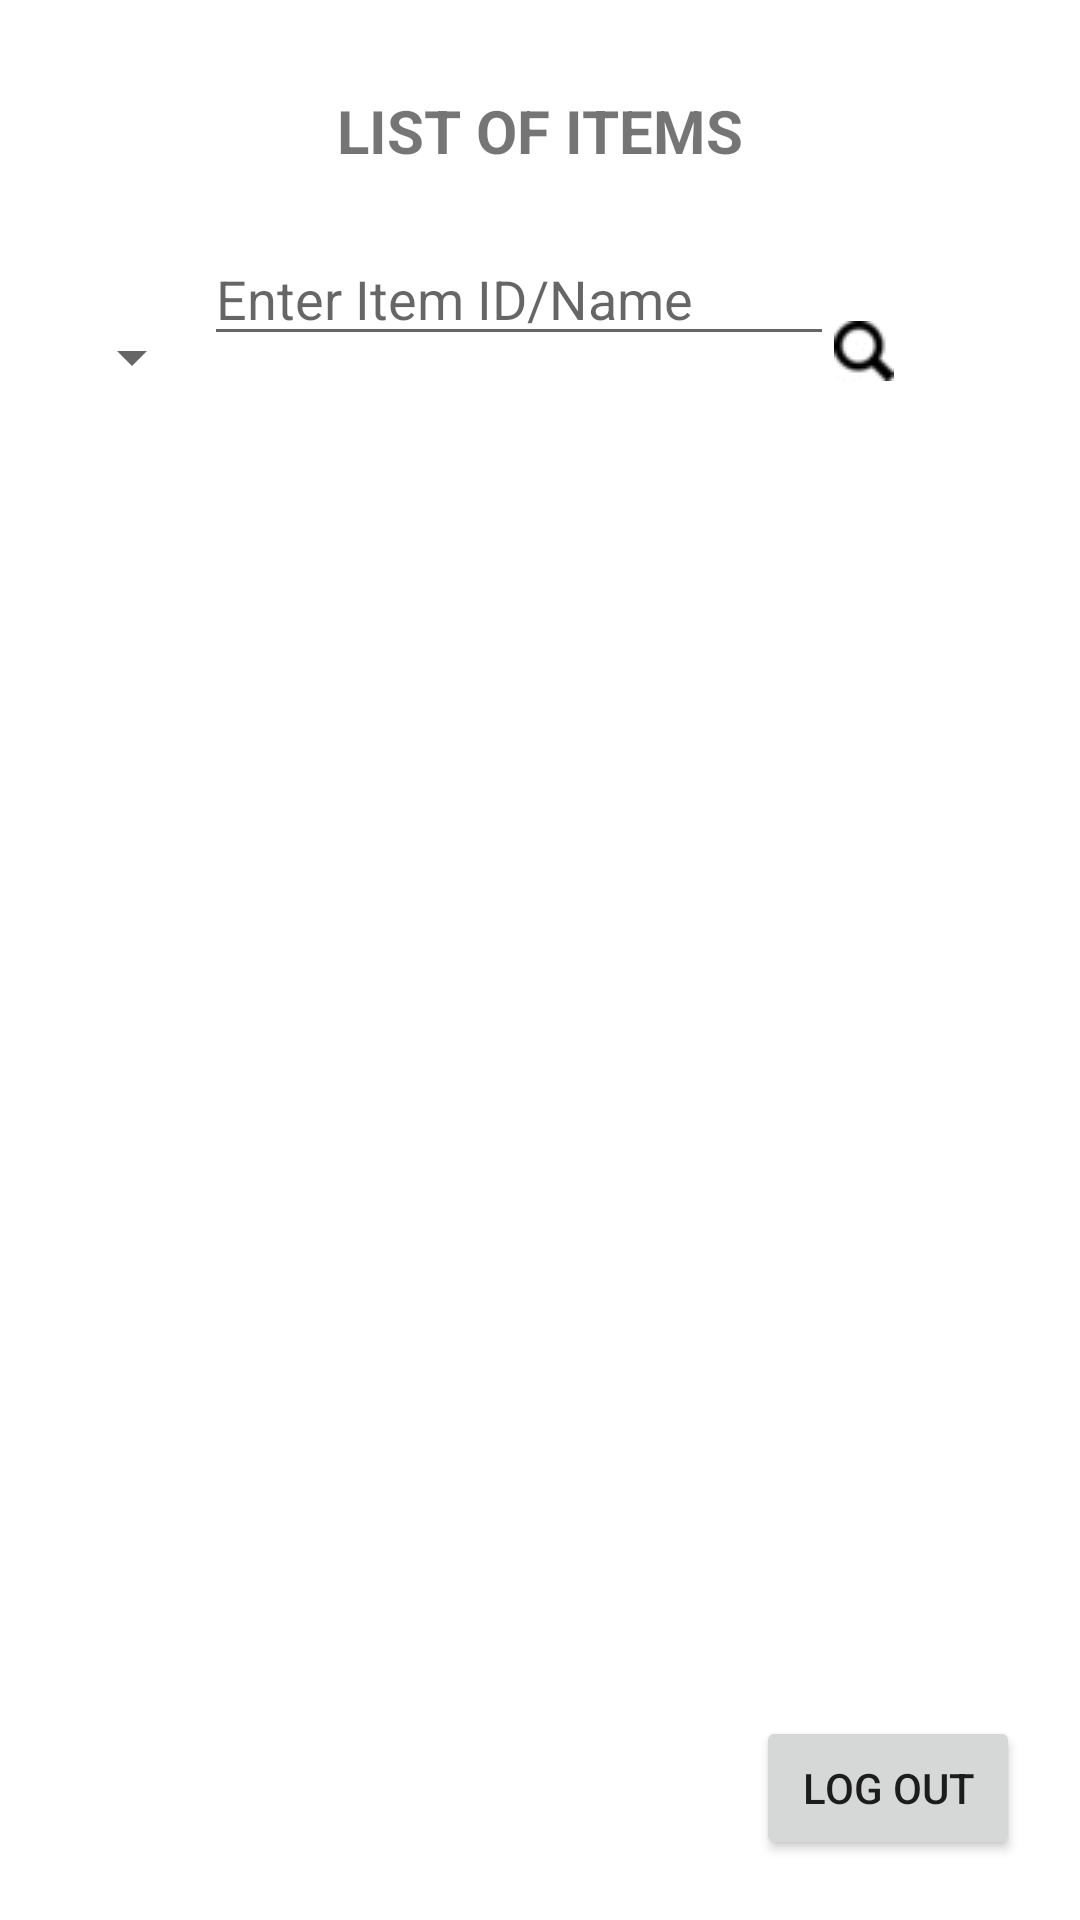

Icons on this 1080 × 1920 Android screen, each with the point to tap as [x,y]:
magnifyingglass: [864,351]
